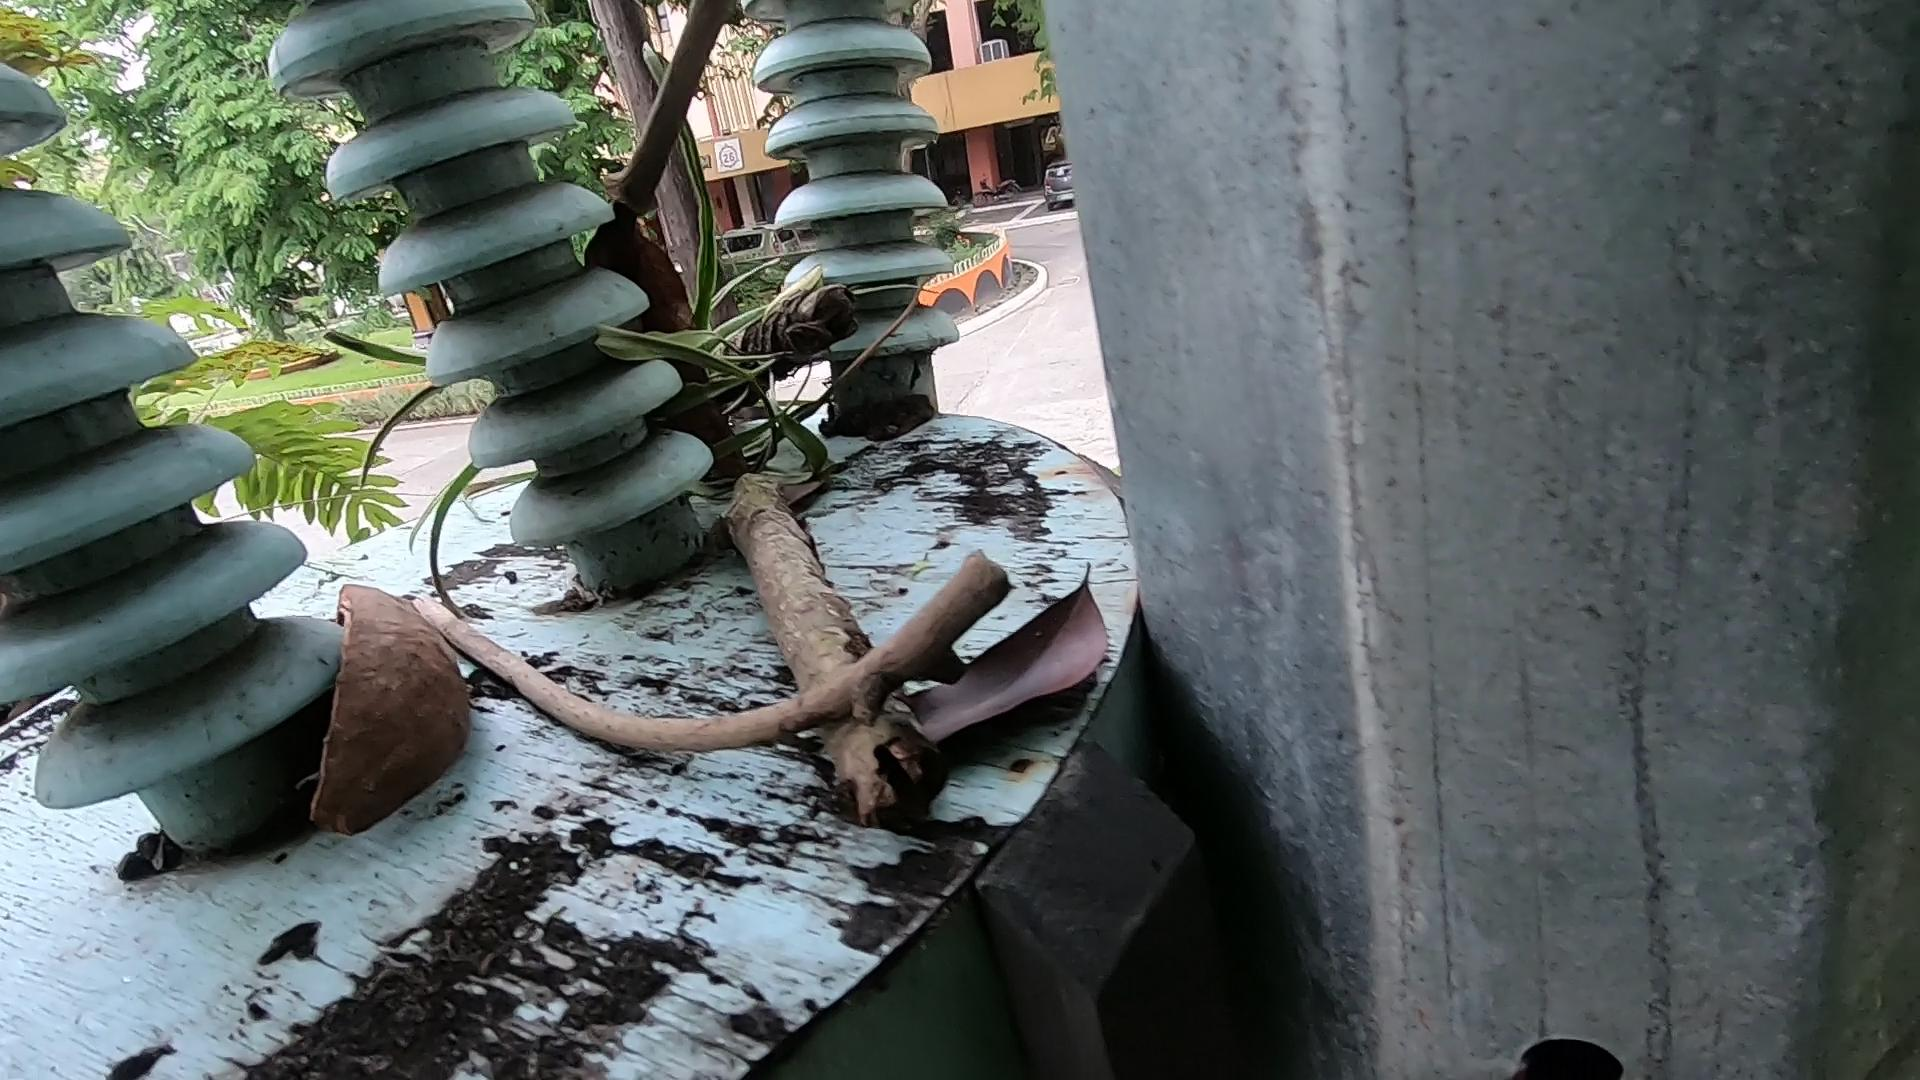branch with leaves: (629, 200, 993, 818)
leaf: (928, 593, 1093, 738)
mahogany fruit: (195, 514, 595, 820)
tree branch: (407, 615, 1014, 764), (566, 1, 807, 272)
